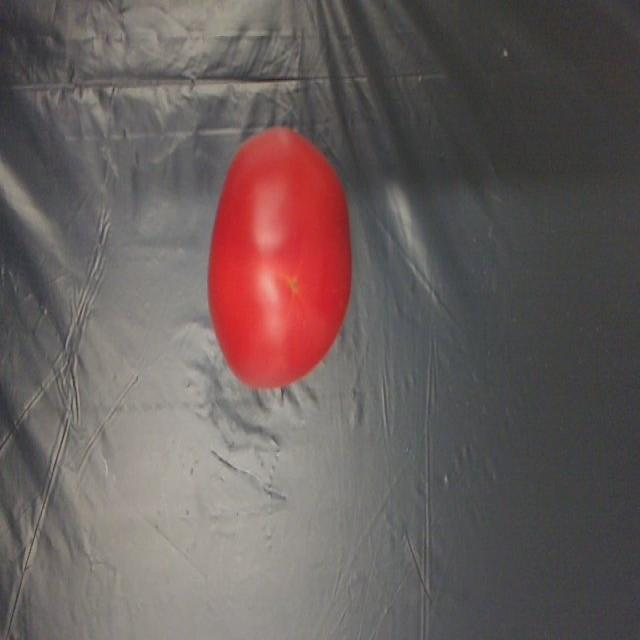kirmizi: (204, 112, 360, 400)
